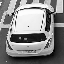mobil: (4, 3, 58, 58)
